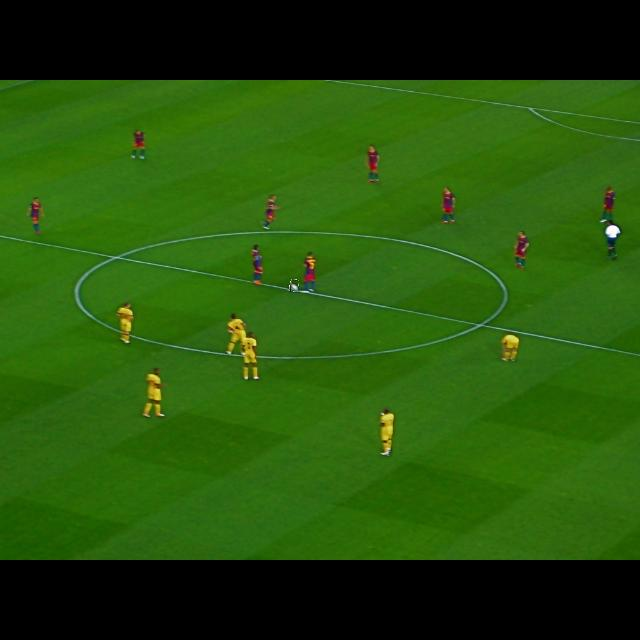Football: (290, 280, 298, 292)
